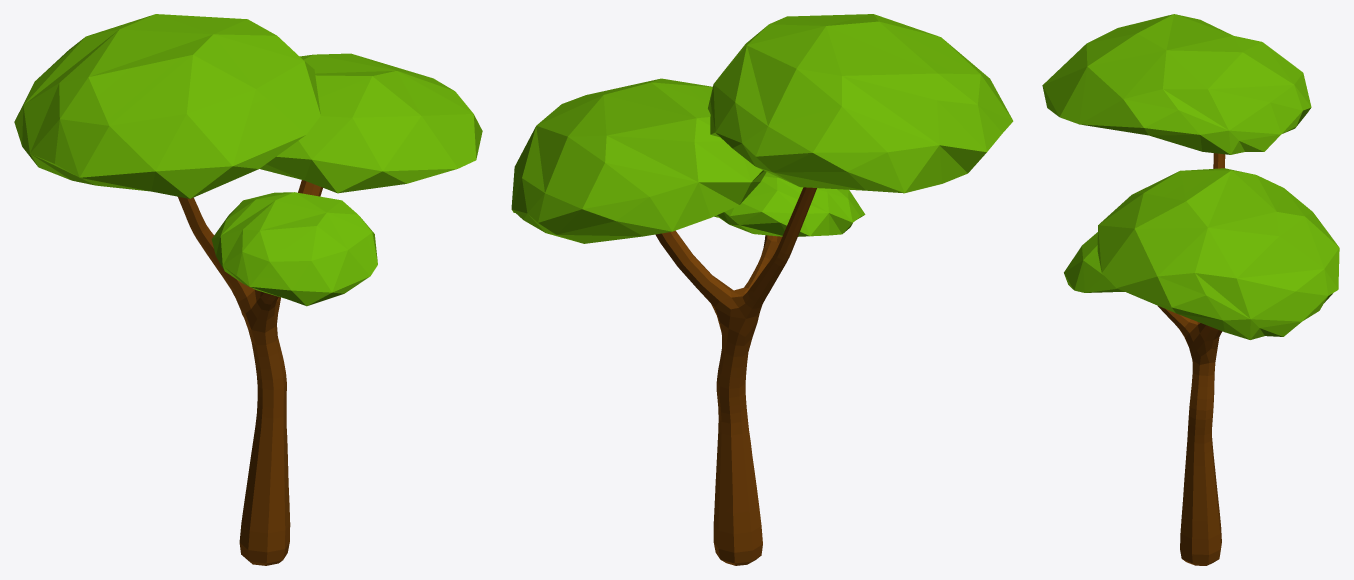
File: Lowpolytree_6_yellow_superhigh.glb
3 views of the same model, side by side, from view 1: azimuth 30°, elevation 25°; view 2: azimuth 150°, elevation 25°; view 3: azimuth 270°, elevation 25° (orthographic). The views are drawn at different scales.
Parts seen in each view (by area): view 1: Lowpolytree_6_yellow_yellow.002_0, Lowpolytree_6_yellow_Wood_0; view 2: Lowpolytree_6_yellow_yellow.002_0, Lowpolytree_6_yellow_Wood_0; view 3: Lowpolytree_6_yellow_yellow.002_0, Lowpolytree_6_yellow_Wood_0.
Part boxes in pixels (left/top/right/bottom): Lowpolytree_6_yellow_yellow.002_0: left=14, top=14, right=482, bottom=306; Lowpolytree_6_yellow_Wood_0: left=178, top=180, right=322, bottom=565; Lowpolytree_6_yellow_yellow.002_0: left=511, top=14, right=1013, bottom=243; Lowpolytree_6_yellow_Wood_0: left=655, top=187, right=816, bottom=565; Lowpolytree_6_yellow_yellow.002_0: left=1042, top=14, right=1339, bottom=339; Lowpolytree_6_yellow_Wood_0: left=1158, top=153, right=1225, bottom=565.
Bounding box in the file's own units: 3.93 × 4.65 × 2.59.
Materials: 2 (1 with a texture image).
